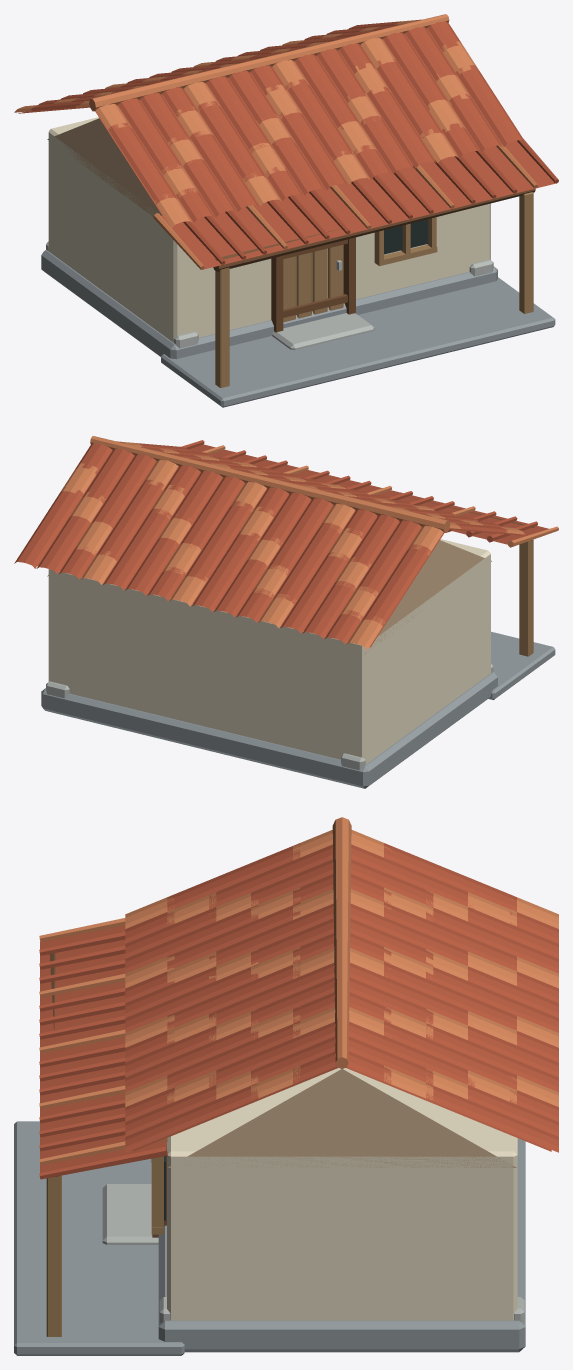
The model's file is Casa_Corredor.fbx.
3 renders of one model, top to bottom at view 1: azimuth 30°, elevation 25°; view 2: azimuth 150°, elevation 25°; view 3: azimuth 270°, elevation 25°, orthographic. The views are drawn at different scales.
Visible parts, largest first — view 1: Casa_Corredor; view 2: Casa_Corredor; view 3: Casa_Corredor.
Part boxes in pixels (bbox=[...]): Casa_Corredor: bbox=[14, 14, 558, 407]; Casa_Corredor: bbox=[14, 436, 558, 788]; Casa_Corredor: bbox=[14, 817, 558, 1355].
Bounding box in the file's own units: 6.35 × 3.8 × 6.06.
